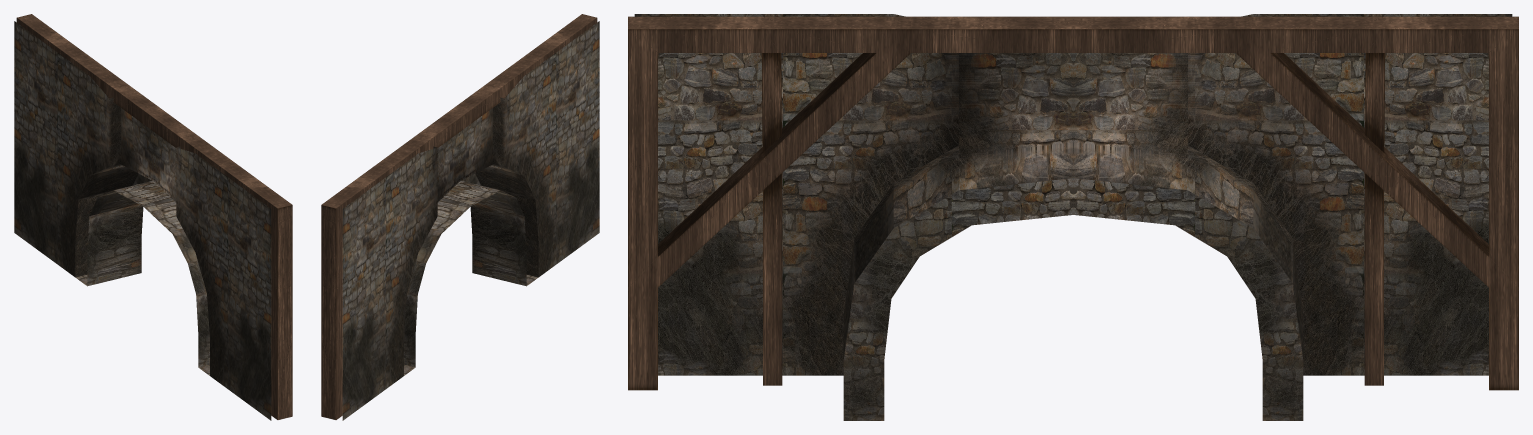
File: Room_Back.fbx
3 renders of one model, left to right at view 1: azimuth 30°, elevation 25°; view 2: azimuth 150°, elevation 25°; view 3: azimuth 270°, elevation 25°, orthographic. The views are drawn at different scales.
Visible parts, largest first — view 1: 立方体.193, 立方体.192; view 2: 立方体.193, 立方体.192; view 3: 立方体.193, 立方体.192.
Boxes of the visible parts, box(x1,y1,x2,y2) form: 立方体.193: box(14, 21, 271, 420); 立方体.192: box(16, 14, 292, 419); 立方体.193: box(342, 21, 599, 420); 立方体.192: box(321, 14, 597, 419); 立方体.193: box(634, 14, 1512, 420); 立方体.192: box(628, 16, 1518, 390).
Bounding box in the file's own units: 109 × 407 × 905.
Materials: 2 (2 with a texture image).
